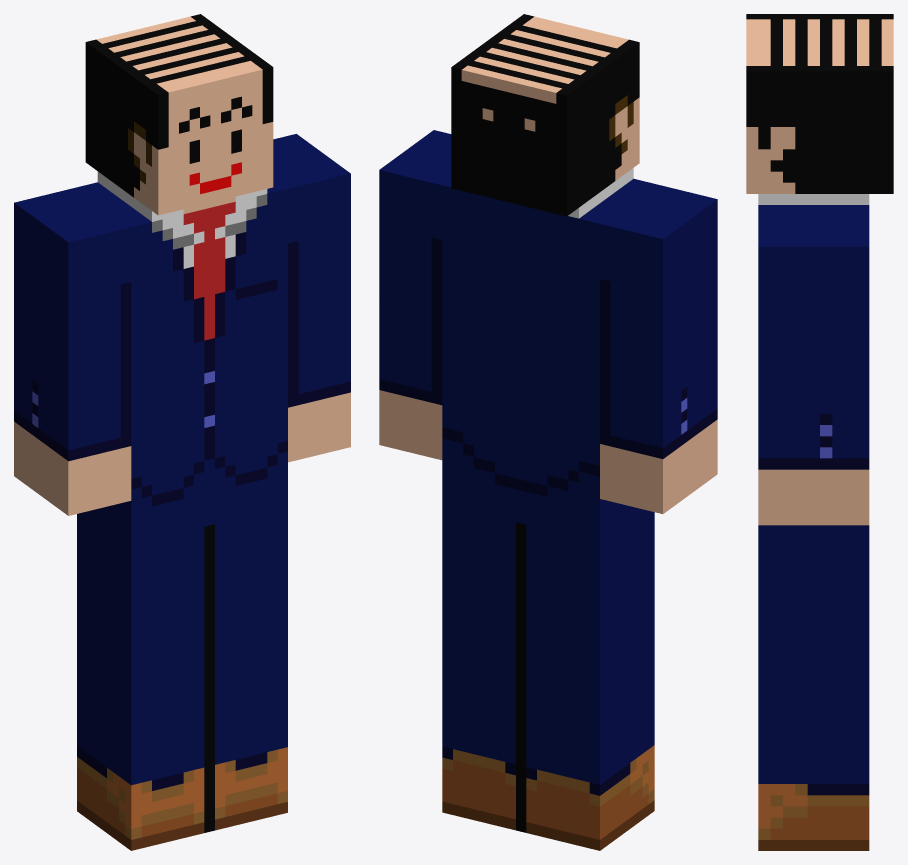
File: ri-man.smail.obj
The picture shows the model from 3 angles, left to right: view 1: azimuth 30°, elevation 25°; view 2: azimuth 150°, elevation 25°; view 3: azimuth 270°, elevation 25°; orthographic projection.
Size of the model in its own units: 2.7 by 6.9 by 1.2.
1 material, 1 textured.
